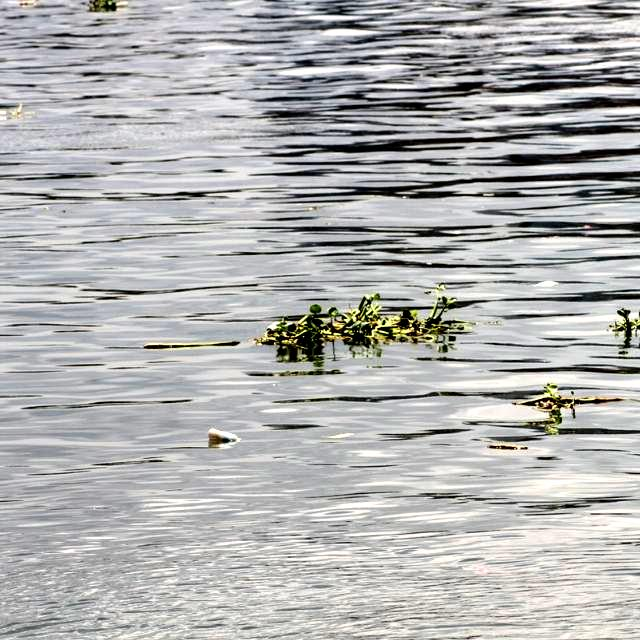plastic bottle: (206, 423, 242, 448)
water-hyacinth: (268, 289, 464, 347), (527, 381, 582, 425), (614, 304, 640, 343)
